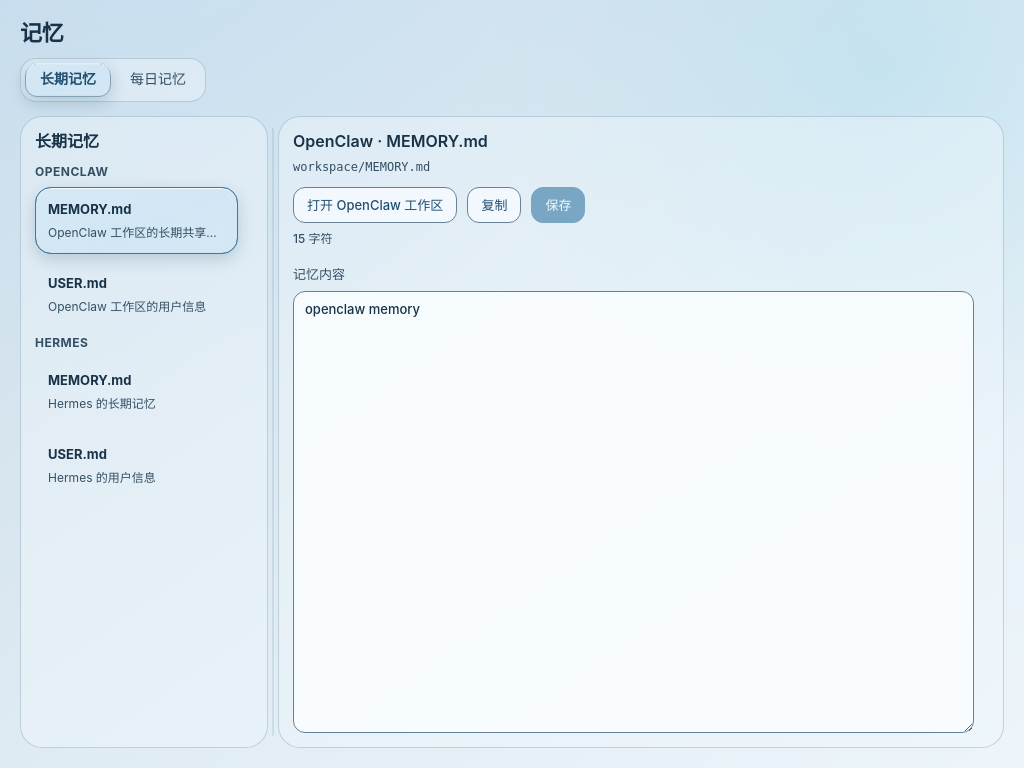
Test: MemoryPage native business management › loads and switches among exactly four fixed long-term resources
Check: the header with class "fy-feature-header" is shown, box [20,20,63,46]
Check: the heading "记忆" is shown, box [20,20,63,48]
Click the button with aria-label "OpenClaw · USER.md": x=136, y=295 [35,261,238,328]
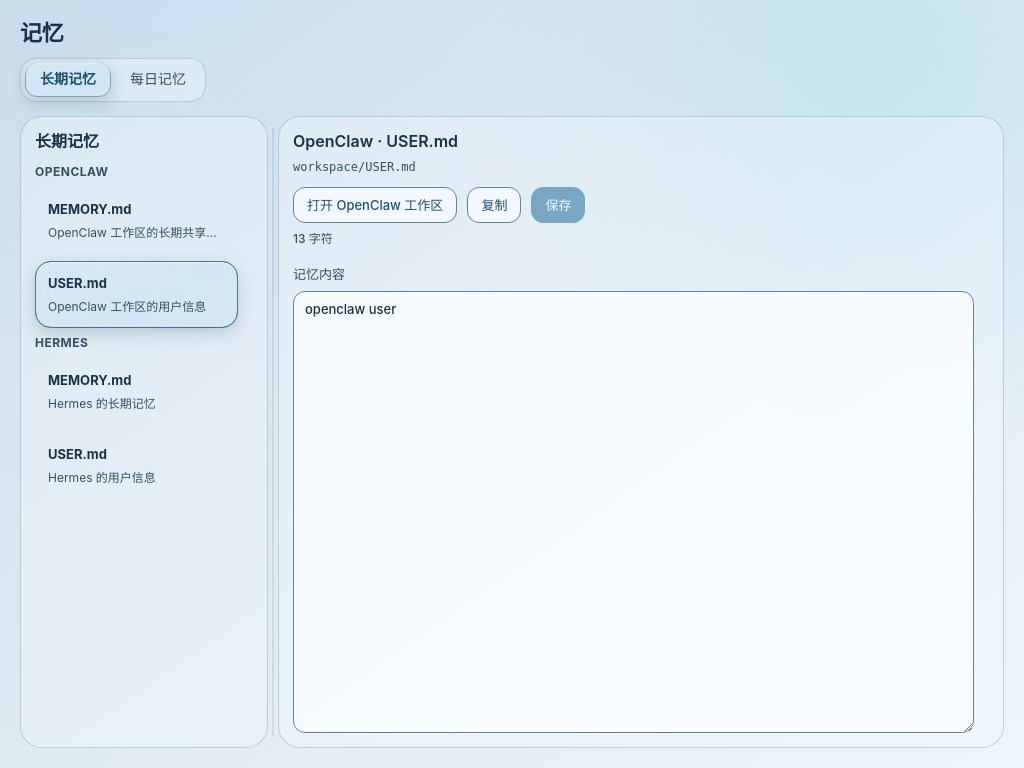
Check: the text box labelled "记忆内容" holds "openclaw user", box [293,291,974,733]
Click the button with aria-label "Hermes · MEMORY.md": x=136, y=392 [35,358,238,425]
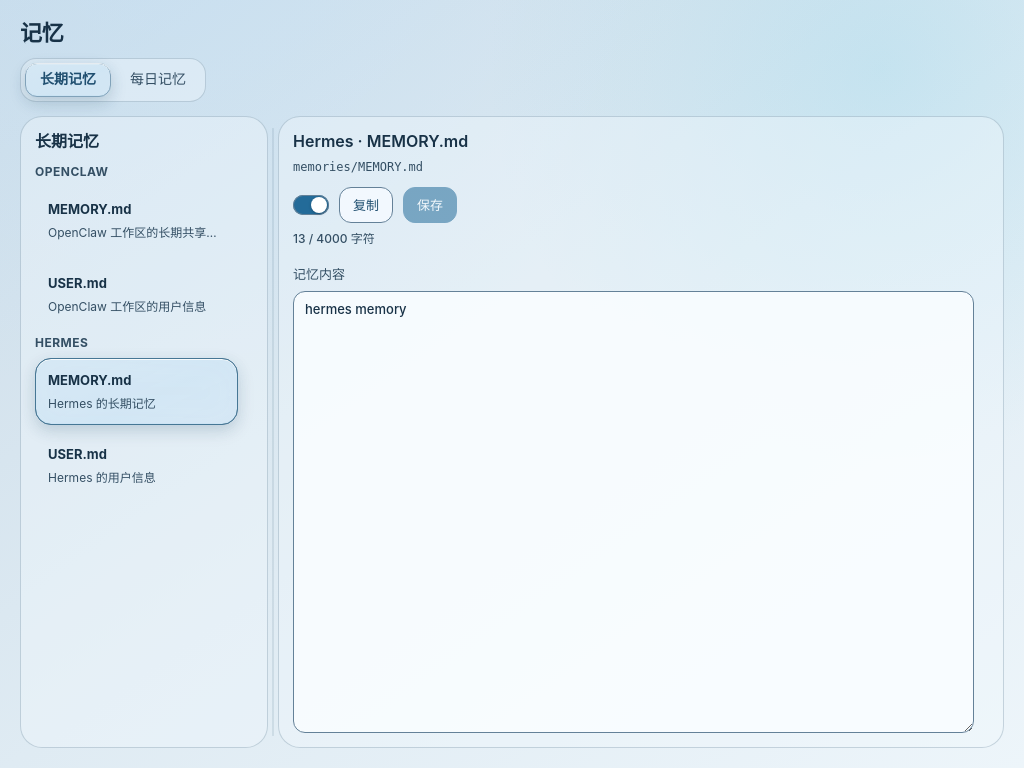
Check: the text box labelled "记忆内容" holds "hermes memory", box [293,291,974,733]
Click the button with aria-label "Hermes · USER.md": x=136, y=466 [35,432,238,499]
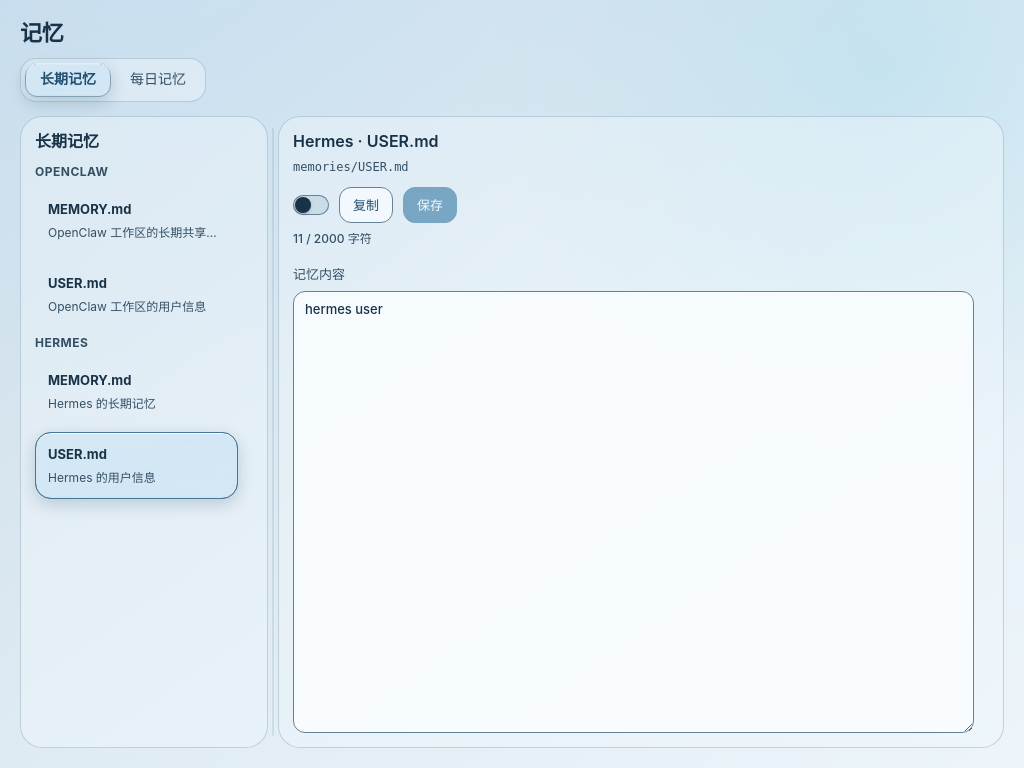
Check: the text box labelled "记忆内容" holds "hermes user", box [293,291,974,733]
